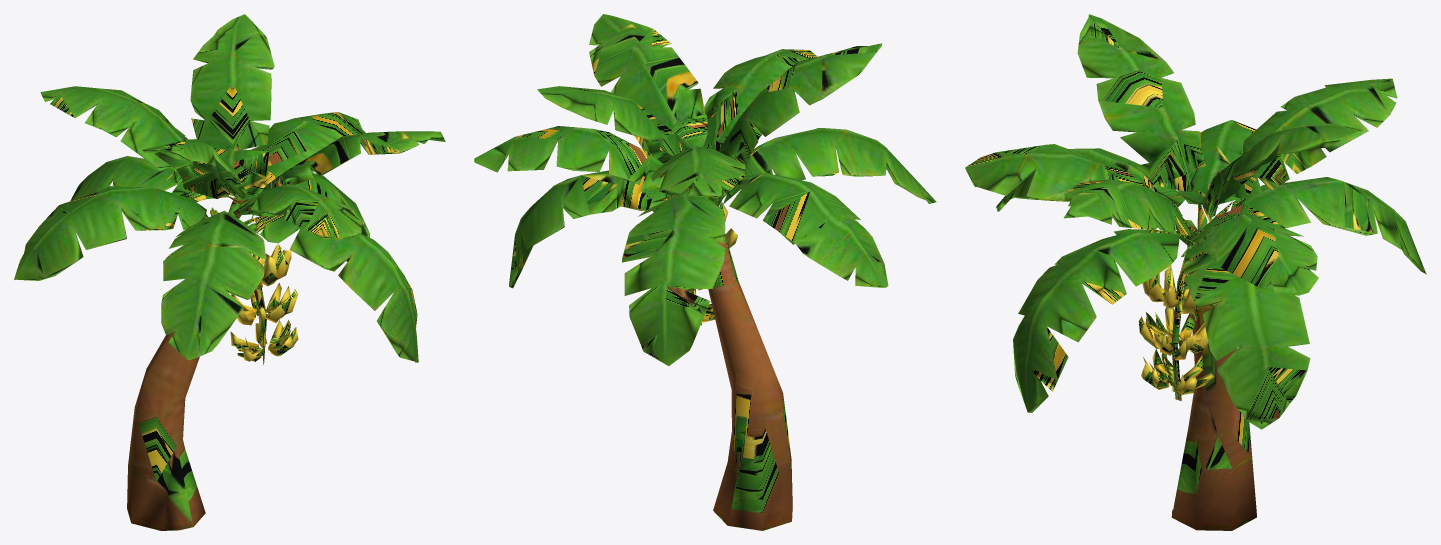
File: banana-2.glb
3 views of the same model, side by side, from view 1: azimuth 30°, elevation 25°; view 2: azimuth 150°, elevation 25°; view 3: azimuth 270°, elevation 25° (orthographic). The views are drawn at different scales.
Visible parts, largest first — view 1: geometry_0; view 2: geometry_0; view 3: geometry_0.
Part boxes in pixels (x1,y1,x2,y2): geometry_0: (14, 14, 445, 530); geometry_0: (474, 14, 936, 530); geometry_0: (965, 14, 1426, 530).
Bounding box in the file's own units: 0.8701 × 0.9502 × 0.8555.
Materials: 1 (1 with a texture image).
